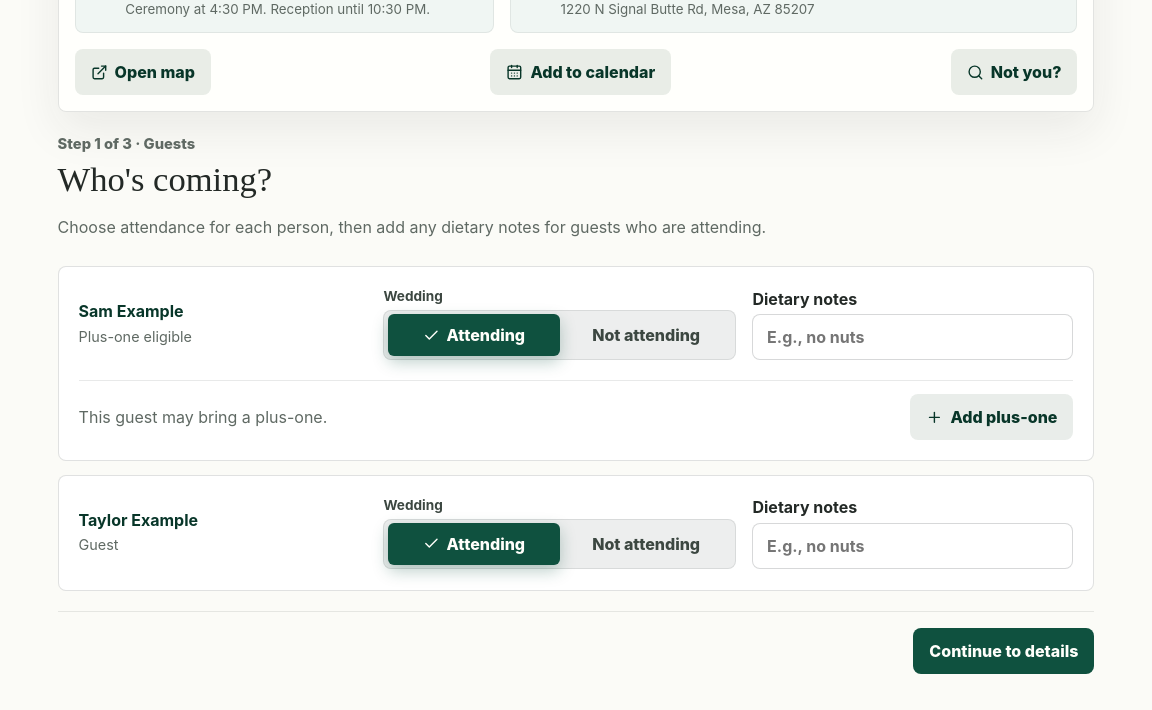
RsvpPage › integrates plus-one fields with the household guest list
This screenshot has width=1152, height=710.
(page scrolled)
Expected: the heading "Who's coming?" is shown, [58,160,272,198]
Click the button "Add plus-one".
click(992, 418)  # box [910,394,1073,440]
(page scrolled)
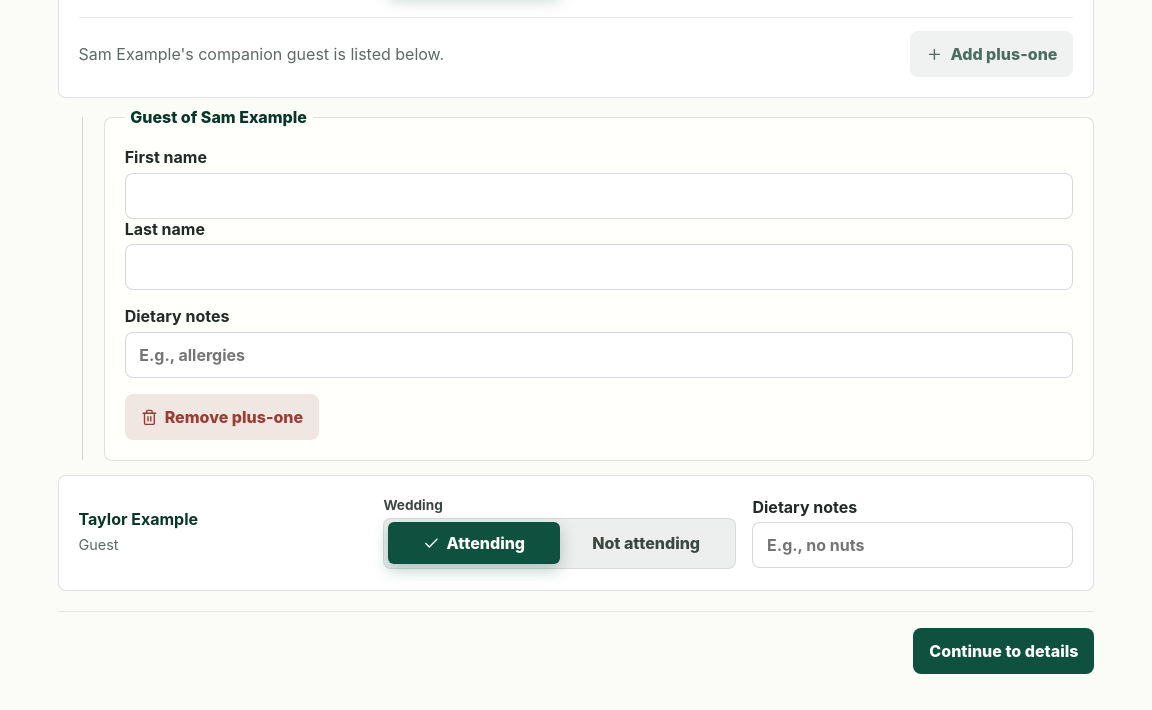
Expected: the text "Guest of Sam Example" is shown, [125,107,313,127]
Expected: the field named "Plus-one 1 first name" is shown, [125,173,1073,219]
Expected: the field named "Plus-one 1 last name" is shown, [125,244,1073,290]
